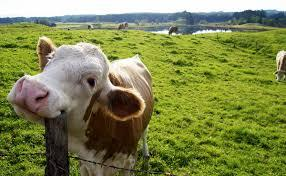cow: (6, 35, 153, 176), (274, 49, 286, 83), (167, 26, 179, 37), (117, 22, 129, 31)
